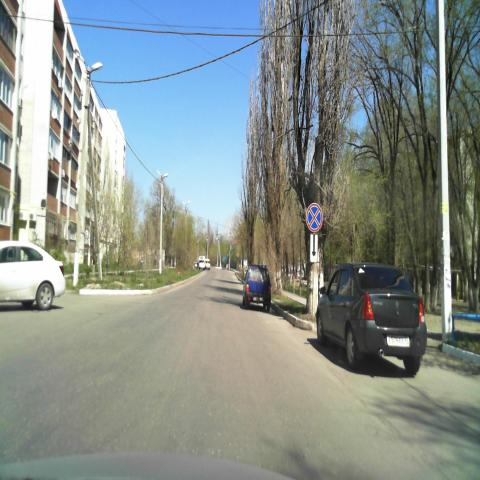8_2_3: (309, 233, 319, 264)
